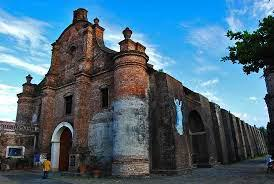Environmental Damage: (156, 68, 165, 78)
Sta. Maria Church: (19, 6, 149, 173)
Unfinished Paint: (90, 99, 148, 160)
